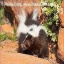skunk: (18, 15, 49, 57)
